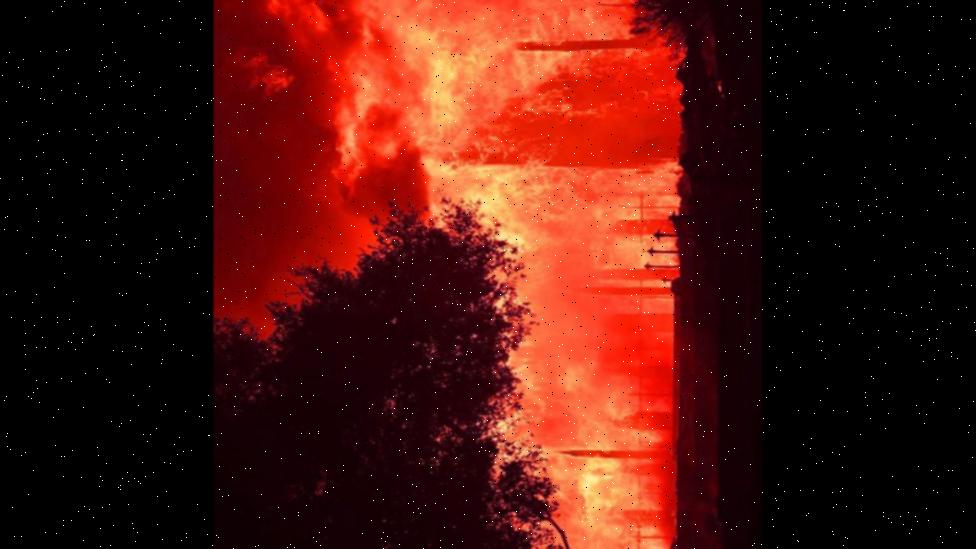fire: (240, 0, 698, 283), (505, 291, 683, 549)
